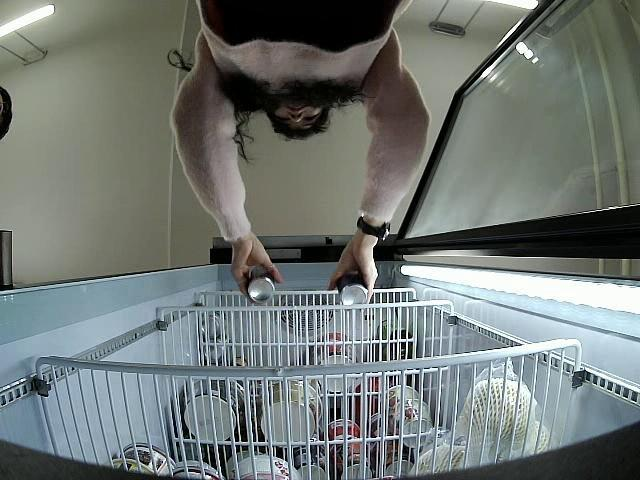16_hot6: (244, 260, 278, 304), (338, 267, 368, 304)
